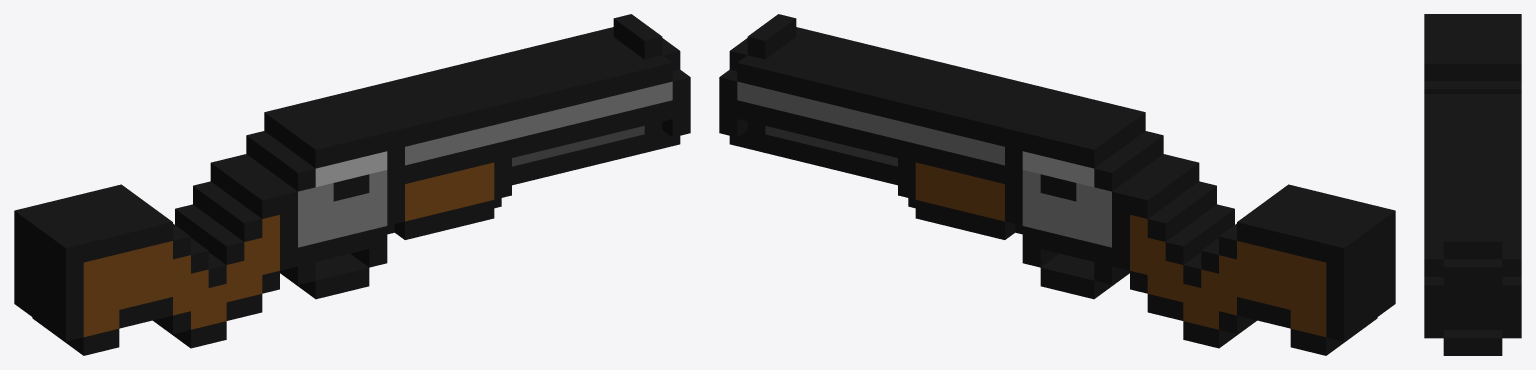
File: Shotgun.obj
3 views of the same model, side by side, from view 1: azimuth 30°, elevation 25°; view 2: azimuth 150°, elevation 25°; view 3: azimuth 270°, elevation 25° (orthographic). The views are drawn at different scales.
Size of the model in its own units: 3.5 by 1 by 0.5.
1 material, 1 textured.
